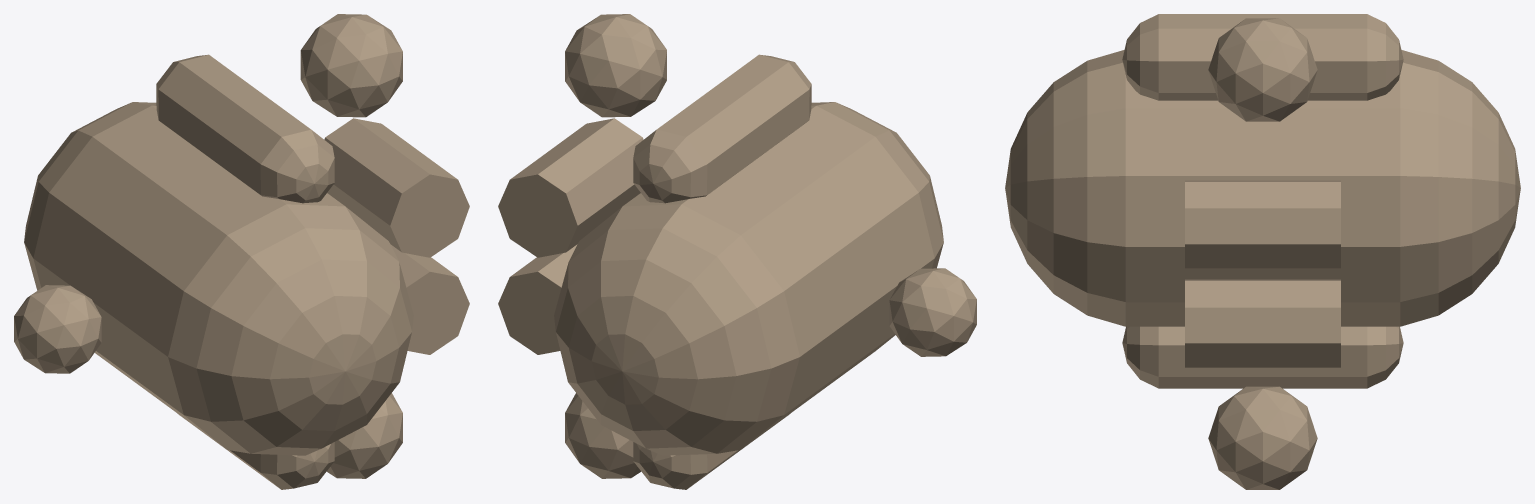
File: Giant_B_Basic.glb
3 renders of one model, left to right at view 1: azimuth 30°, elevation 25°; view 2: azimuth 150°, elevation 25°; view 3: azimuth 270°, elevation 25°, orthographic.
Parts seen in each view (by area): view 1: world; view 2: world; view 3: world.
Part boxes in pixels (x1,y1,x2,y2): world: (14, 14, 469, 489); world: (498, 14, 976, 489); world: (1005, 14, 1520, 489).
Bounding box in the file's own units: 3.88 × 4 × 4.
